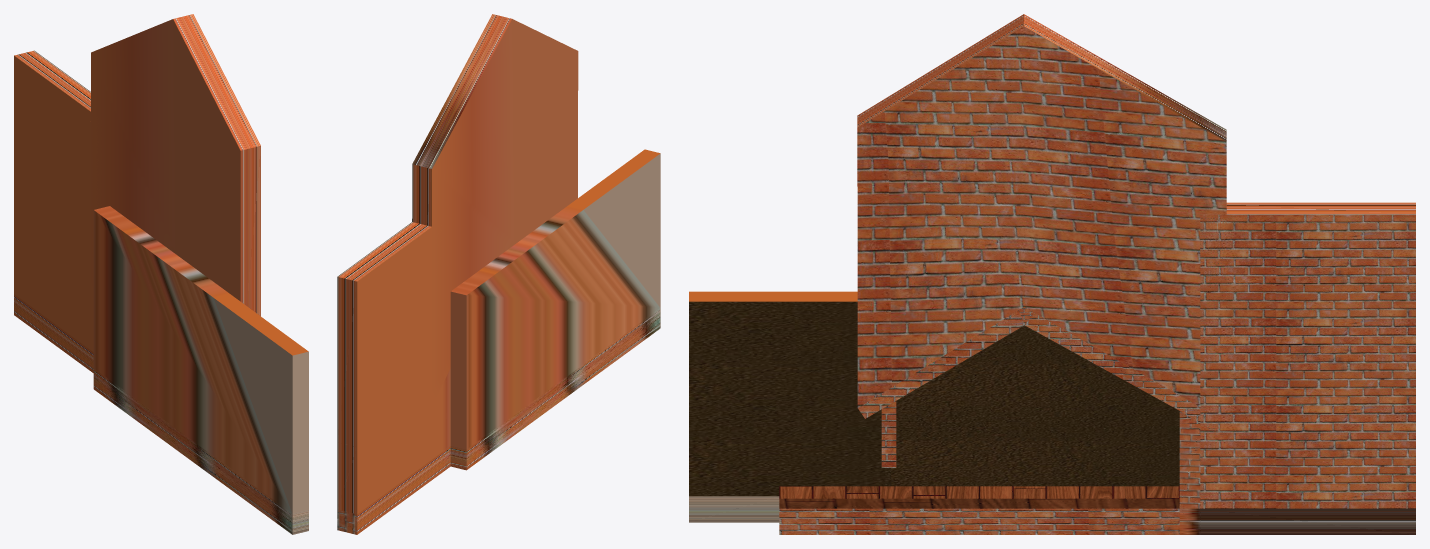
The model's file is test house inside.fbx.
The picture shows the model from 3 angles, left to right: view 1: azimuth 30°, elevation 25°; view 2: azimuth 150°, elevation 25°; view 3: azimuth 270°, elevation 25°; orthographic projection. The views are drawn at different scales.
Parts seen in each view (by area): view 1: Cube; view 2: Cube; view 3: Cube.
Boxes of the visible parts, x1,y1,x2,y2 form: Cube: (14,14,308,534); Cube: (337,14,660,534); Cube: (689,14,1415,534).
Size of the model in its own units: 360 by 3867 by 5008.
